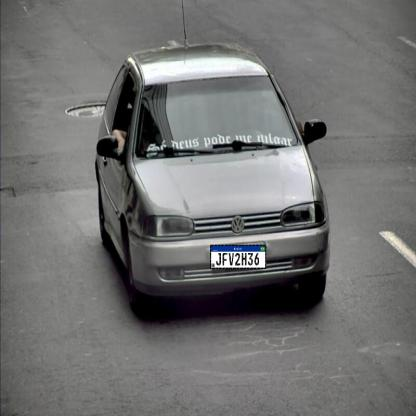PlacaM: (210, 245, 266, 269)
